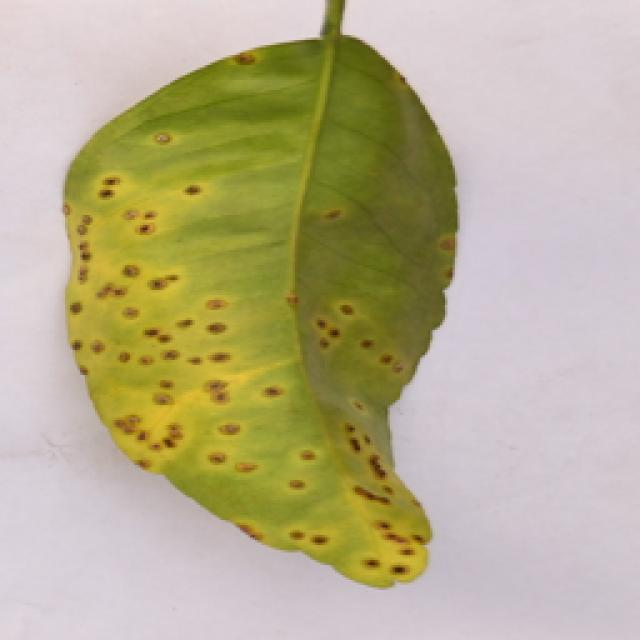canker: (49, 36, 482, 591)
